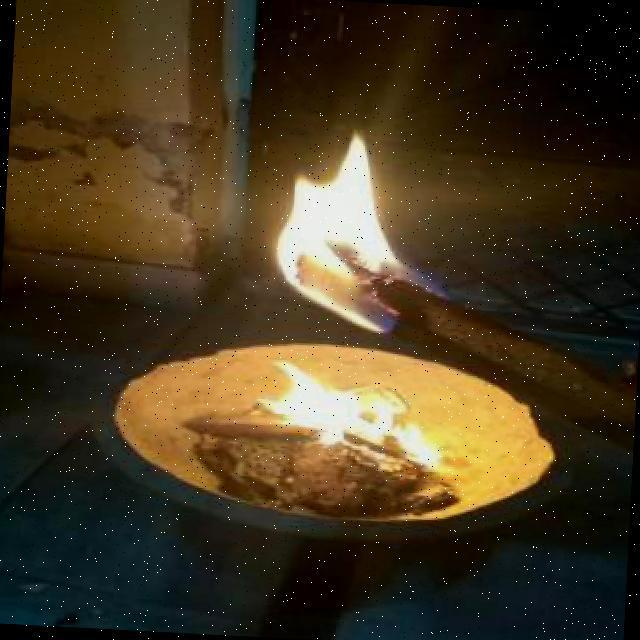Fire: (246, 69, 483, 342), (259, 363, 456, 467)
